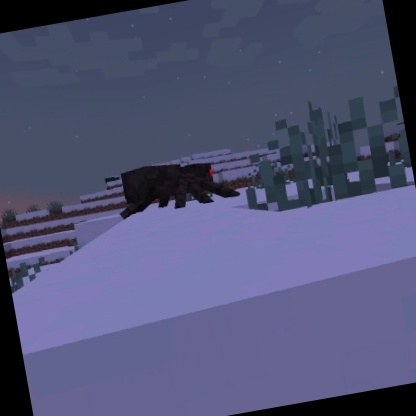spider: (112, 148, 244, 222)
